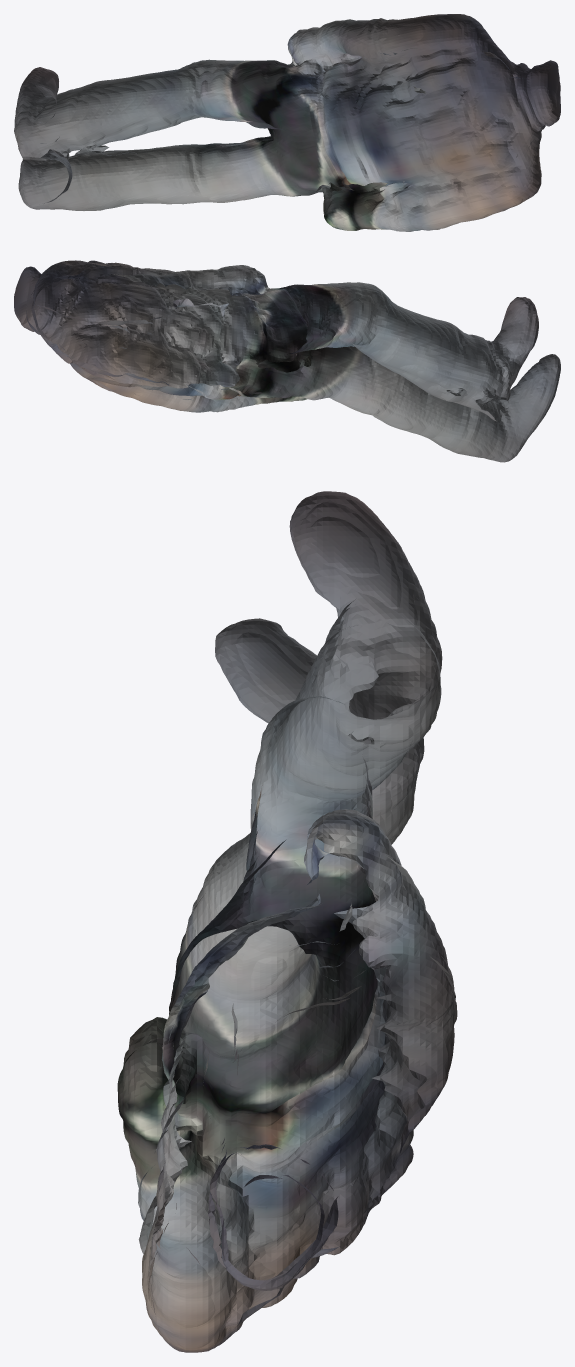
The picture shows the model from 3 angles, top to bottom: view 1: azimuth 30°, elevation 25°; view 2: azimuth 150°, elevation 25°; view 3: azimuth 270°, elevation 25°; orthographic projection. The views are drawn at different scales.
Parts seen in each view (by area): view 1: world; view 2: world; view 3: world.
Part boxes in pixels (x1,y1,x2,y2): world: (14, 14, 560, 231); world: (14, 260, 560, 462); world: (117, 491, 457, 1352).
Bounding box in the file's own units: 0.9446 × 0.3858 × 0.2698.
